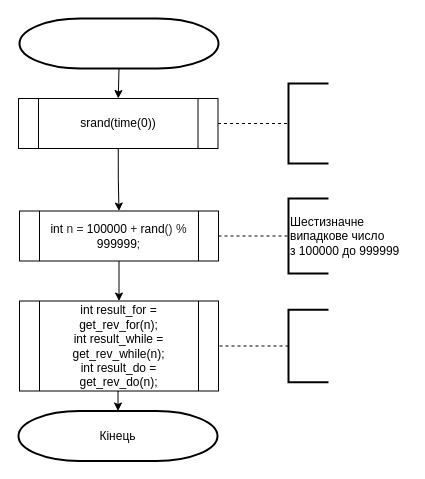
This 425x479 diagram has some shape labels left out. The shapes that lost their labels are listed below. From the top down, each one's centre as x and y in pixels, then its label:
At point (118, 43): "Початок".
At point (308, 123): "При кожному запуску програми різне значення rand()".
At point (308, 345): "Змінні результату циклів for, while, do".
